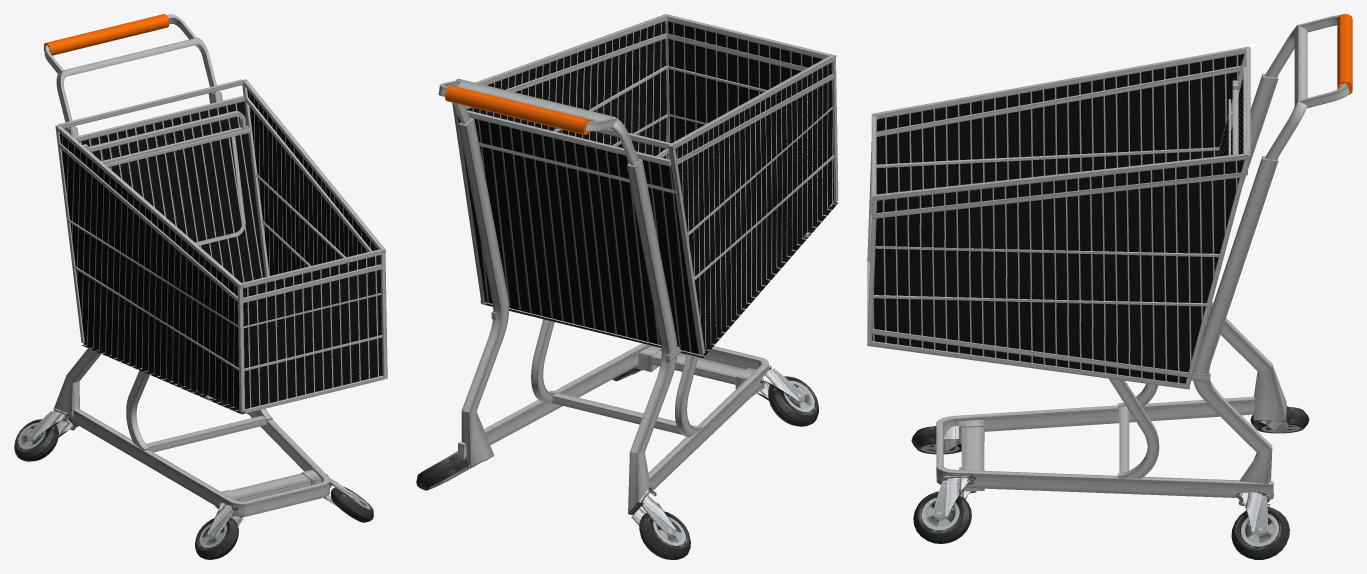
File: Lowered Trolley.fbx
The picture shows the model from 3 angles, left to right: view 1: azimuth 30°, elevation 25°; view 2: azimuth 150°, elevation 25°; view 3: azimuth 270°, elevation 25°; orthographic projection. The views are drawn at different scales.
Parts seen in each view (by area): view 1: Lowered Trolley; view 2: Lowered Trolley; view 3: Lowered Trolley.
Part boxes in pixels (x1,y1,x2,y2): Lowered Trolley: (14,14,387,559); Lowered Trolley: (416,14,838,559); Lowered Trolley: (867,14,1352,559).
Size of the model in its own units: 59.25 by 92.53 by 90.91.
